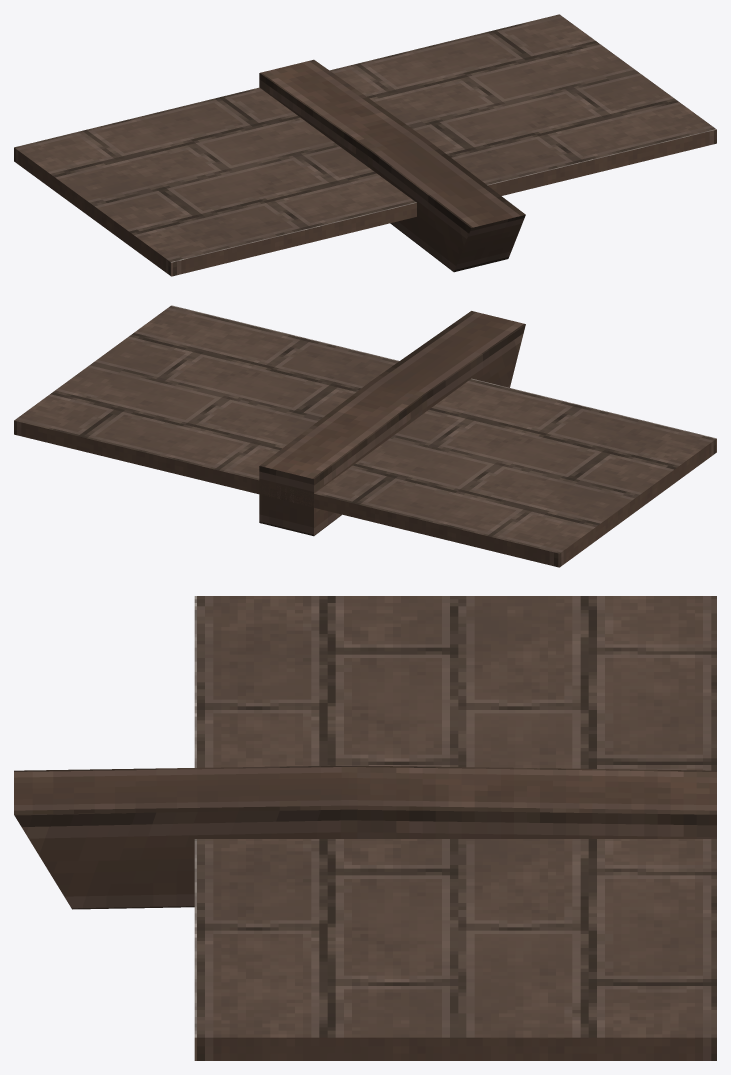
File: overhang.glb
3 renders of one model, top to bottom at view 1: azimuth 30°, elevation 25°; view 2: azimuth 150°, elevation 25°; view 3: azimuth 270°, elevation 25°, orthographic. The views are drawn at different scales.
Parts seen in each view (by area): view 1: overhang; view 2: overhang; view 3: overhang.
Boxes of the visible parts, x1,y1,x2,y2 form: overhang: [14, 14, 716, 276]; overhang: [14, 305, 716, 567]; overhang: [14, 596, 716, 1060].
Bounding box in the file's own units: 2 × 0.2108 × 1.35.
Materials: 1 (1 with a texture image).
